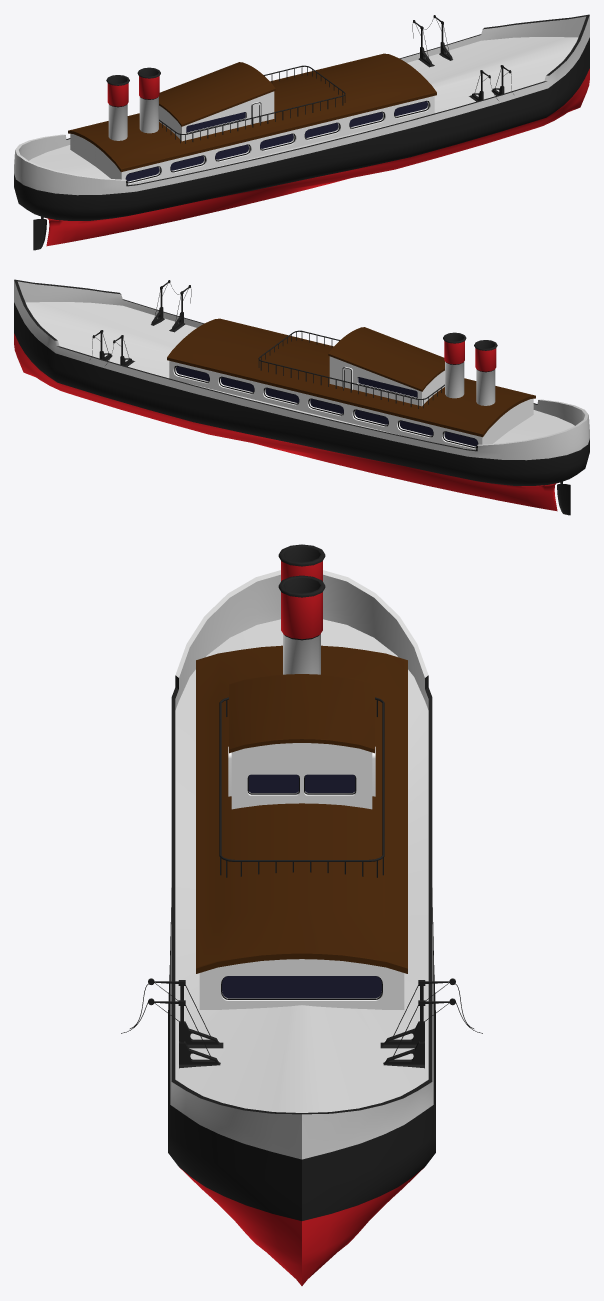
Rendered from LargeShip-M00A.fbx.
The picture shows the model from 3 angles, top to bottom: view 1: azimuth 30°, elevation 25°; view 2: azimuth 150°, elevation 25°; view 3: azimuth 270°, elevation 25°; orthographic projection. The views are drawn at different scales.
Parts seen in each view (by area): view 1: Cylinder; view 2: Cylinder; view 3: Cylinder.
Boxes of the visible parts, <box> form: Cylinder: <box>14,14,589,250</box>; Cylinder: <box>14,279,589,515</box>; Cylinder: <box>121,544,482,1285</box>.
Bounding box in the file's own units: 7022 × 1840 × 1932.
